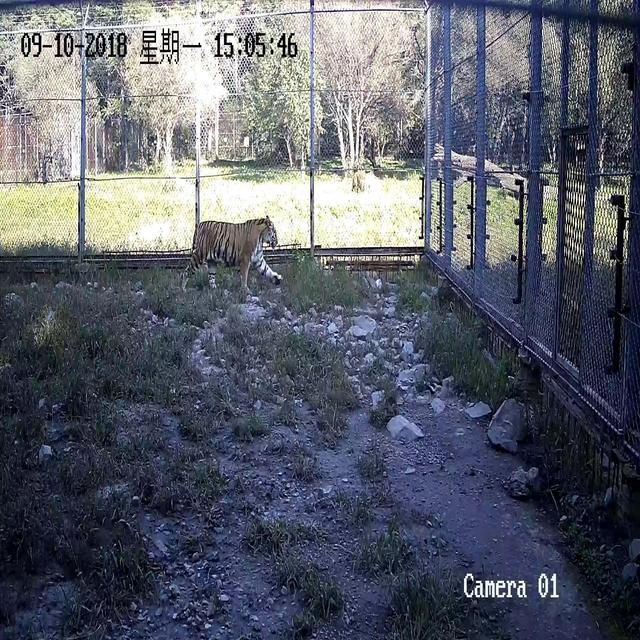tiger: (184, 214, 283, 293)
